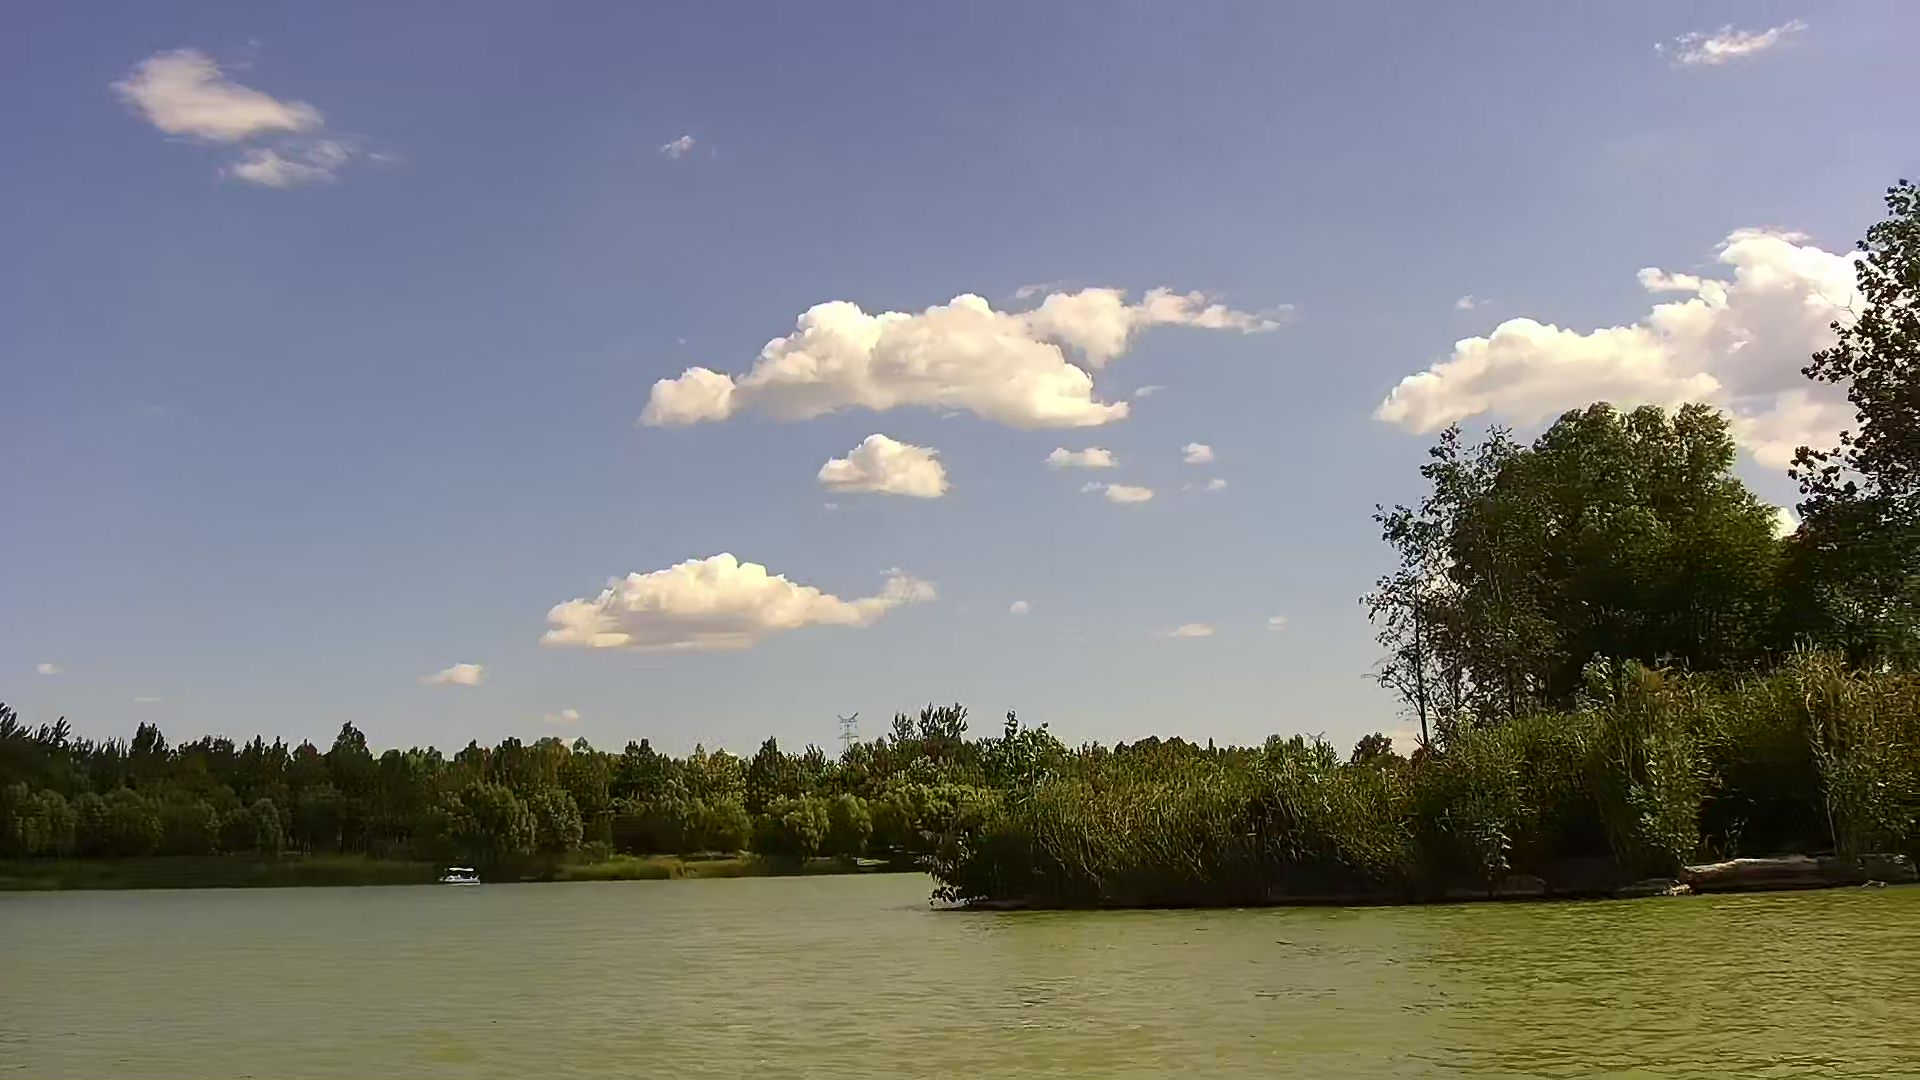boat: (438, 862, 485, 887)
